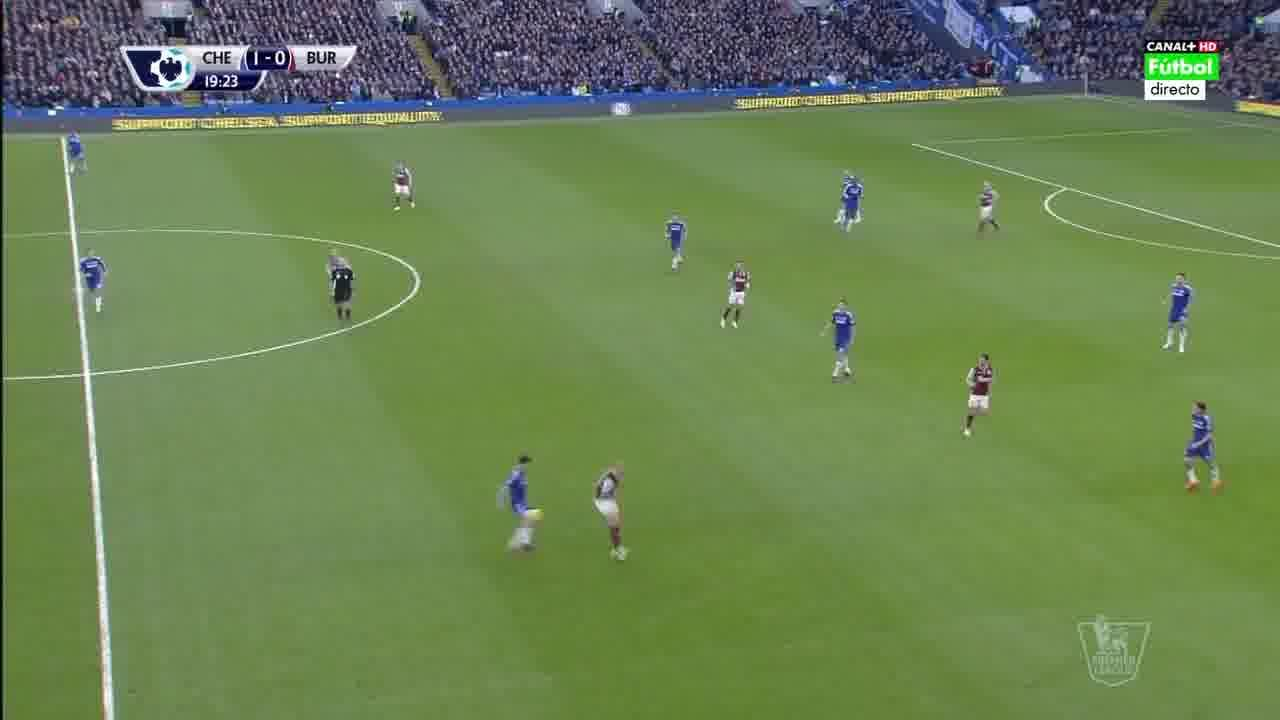football: (530, 505, 544, 521)
